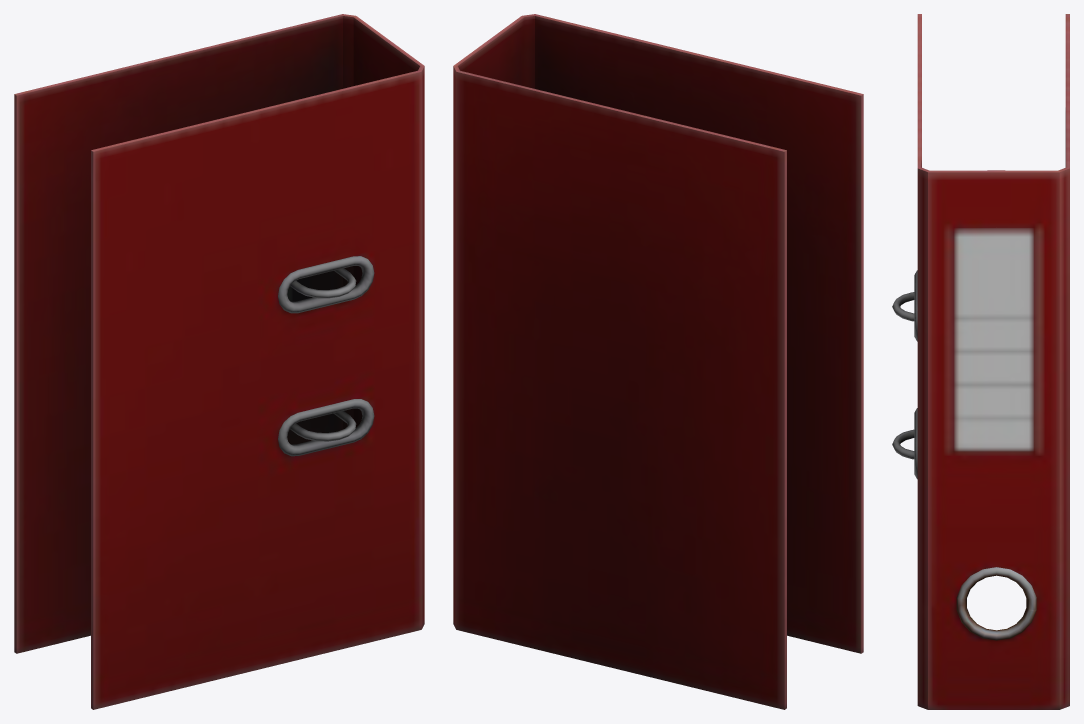
File: red_file.glb
The picture shows the model from 3 angles, left to right: view 1: azimuth 30°, elevation 25°; view 2: azimuth 150°, elevation 25°; view 3: azimuth 270°, elevation 25°; orthographic projection. The views are drawn at different scales.
Parts seen in each view (by area): view 1: Office_Folder1_9_Office_Closit_1_0; view 2: Office_Folder1_9_Office_Closit_1_0; view 3: Office_Folder1_9_Office_Closit_1_0.
Boxes of the visible parts, x1,y1,x2,y2 form: Office_Folder1_9_Office_Closit_1_0: (14, 14, 424, 709); Office_Folder1_9_Office_Closit_1_0: (453, 14, 863, 709); Office_Folder1_9_Office_Closit_1_0: (892, 14, 1069, 709).
Size of the model in its own units: 0.3566 by 0.5606 by 0.1679.
1 material, 1 textured.
